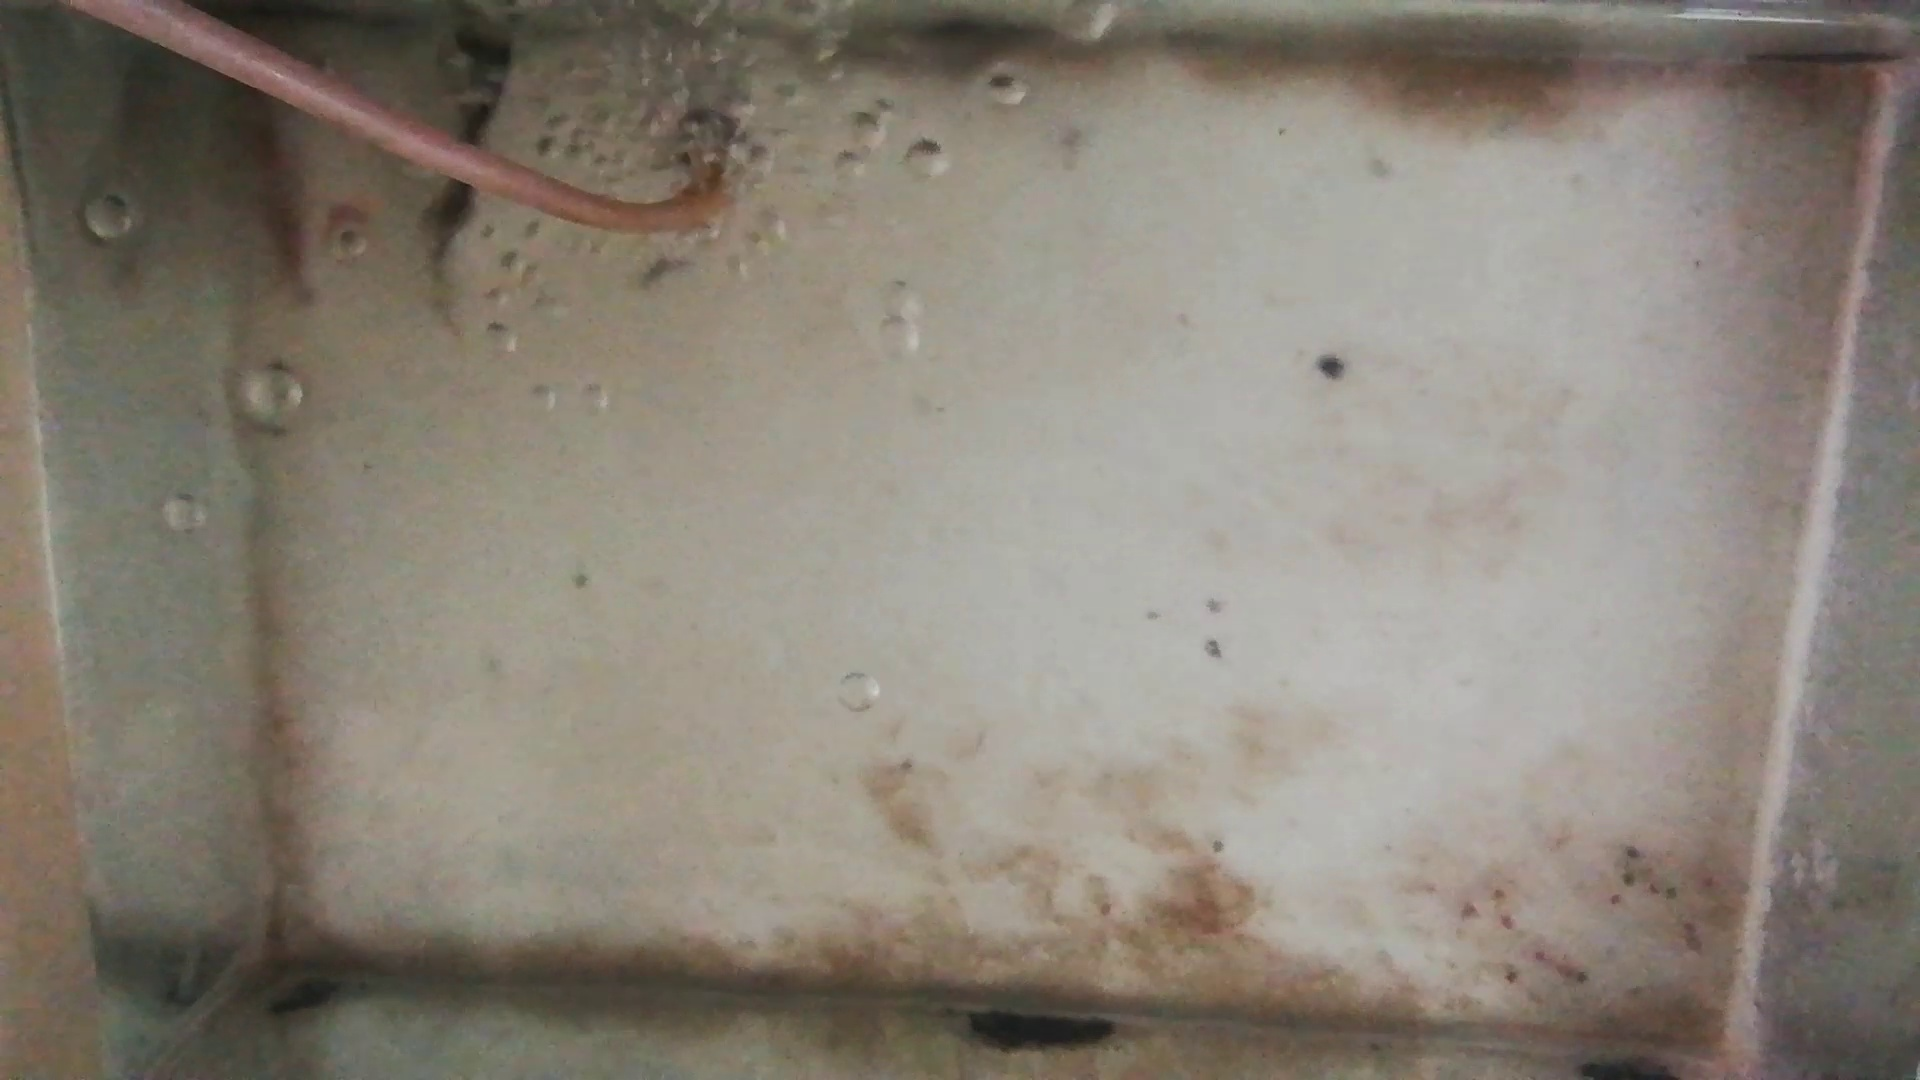fish: (421, 45, 502, 276), (237, 87, 309, 293)
